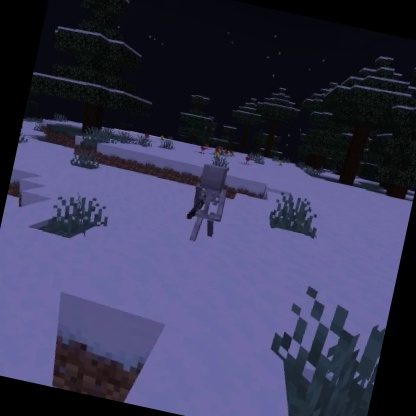skeleton: (179, 158, 235, 249)
